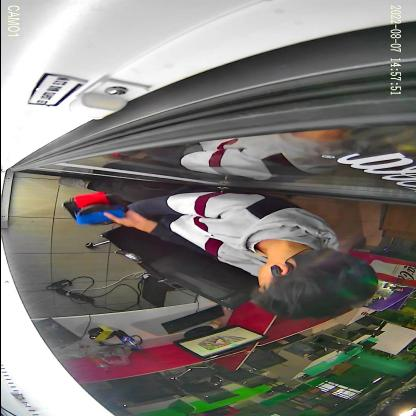blue: (72, 204, 124, 226)
red: (61, 192, 128, 220)
